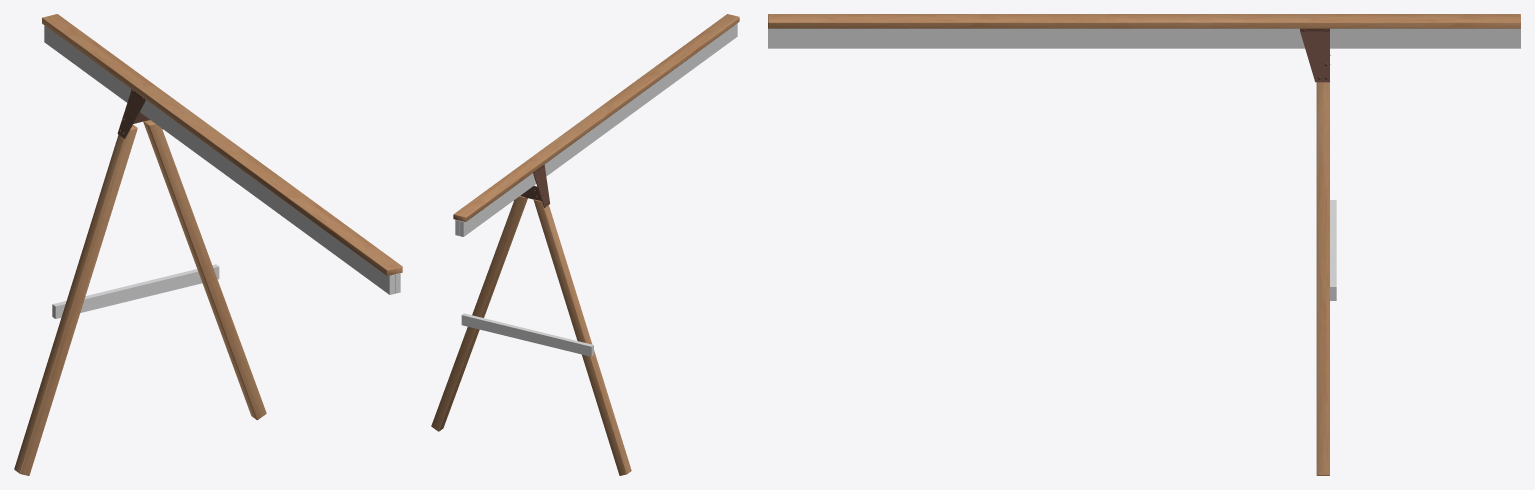
The picture shows the model from 3 angles, left to right: view 1: azimuth 30°, elevation 25°; view 2: azimuth 150°, elevation 25°; view 3: azimuth 270°, elevation 25°; orthographic projection. The views are drawn at different scales.
Visible parts, largest first — view 1: Plane073, Plane073_1,_colorize_, Plane073_2; view 2: Plane073, Plane073_1,_colorize_, Plane073_2; view 3: Plane073, Plane073_1,_colorize_, Plane073_2.
Part boxes in pixels (x1,y1,x2,y2): Plane073: [14, 14, 402, 475]; Plane073_1,_colorize_: [44, 25, 400, 318]; Plane073_2: [117, 89, 162, 138]; Plane073: [431, 14, 739, 475]; Plane073_1,_colorize_: [455, 23, 737, 356]; Plane073_2: [520, 164, 550, 207]; Plane073: [768, 14, 1520, 475]; Plane073_1,_colorize_: [768, 28, 1520, 300]; Plane073_2: [1300, 28, 1330, 82].
Size of the model in its own units: 2.36 by 3.33 by 5.72.
Materials: 3 (1 with a texture image).
